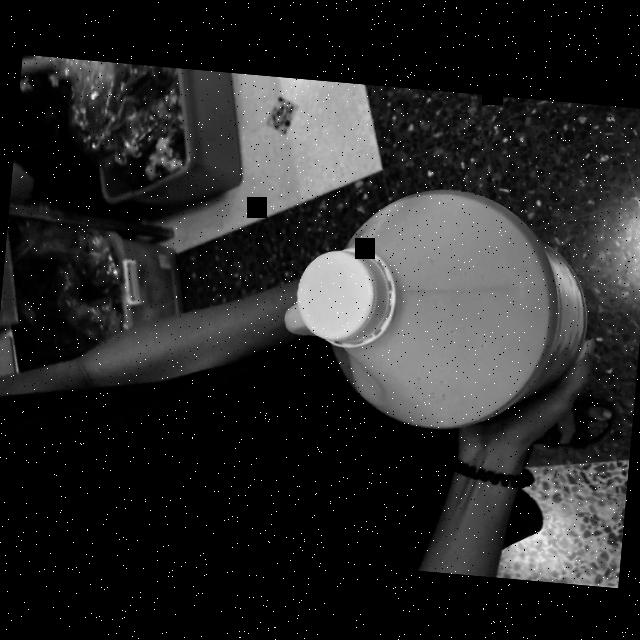chemical_plastic_gallon: (275, 176, 600, 440)
